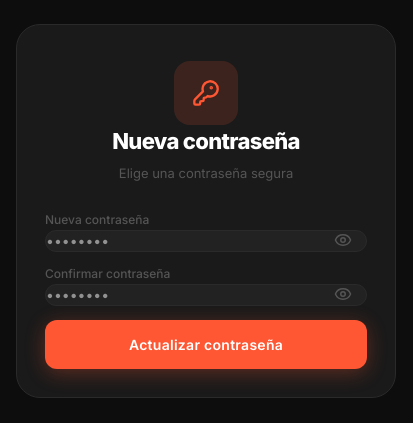
ResetPassword › muestra el error si Supabase rechaza la actualización
This screenshot has width=413, height=423.
Step 1. Type "nuevaClave1" into the password field labelled "Nueva contraseña" → (206, 241), box [45,230,367,252]
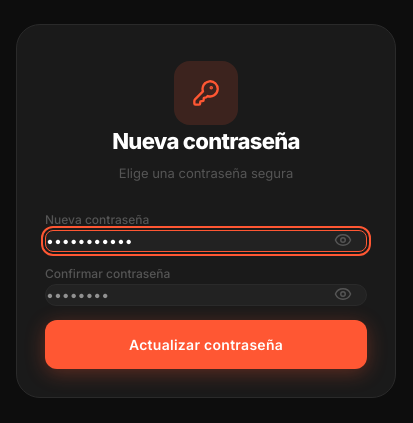
Step 2. Type "nuevaClave1" into the password field labelled "Confirmar contraseña" → (206, 295), box [45,284,367,306]
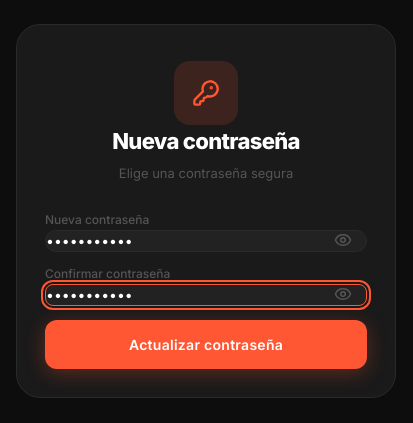
Step 3. Click the button "Actualizar contraseña" → (206, 344), box [45,320,367,369]
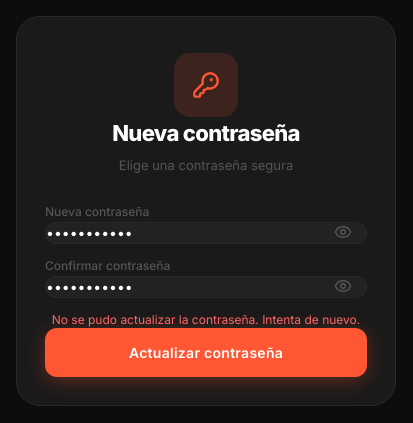
Check: the message shows "No se pudo actualizar la contraseña", box [52,312,360,327]
